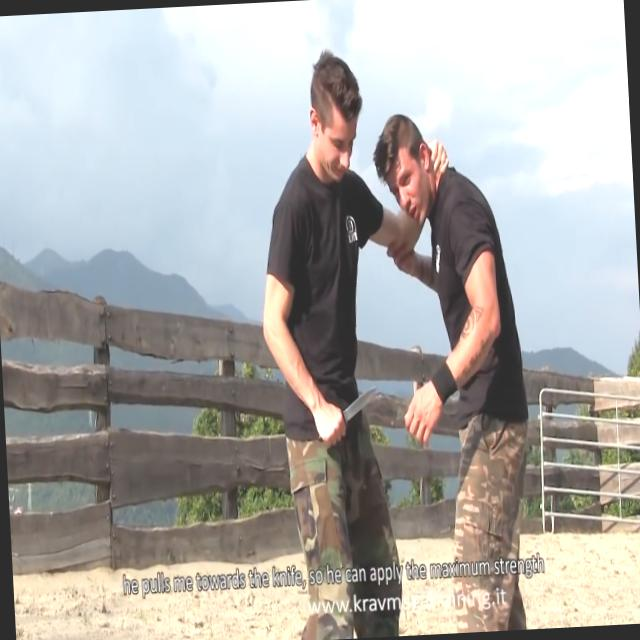knife: (314, 378, 384, 451)
